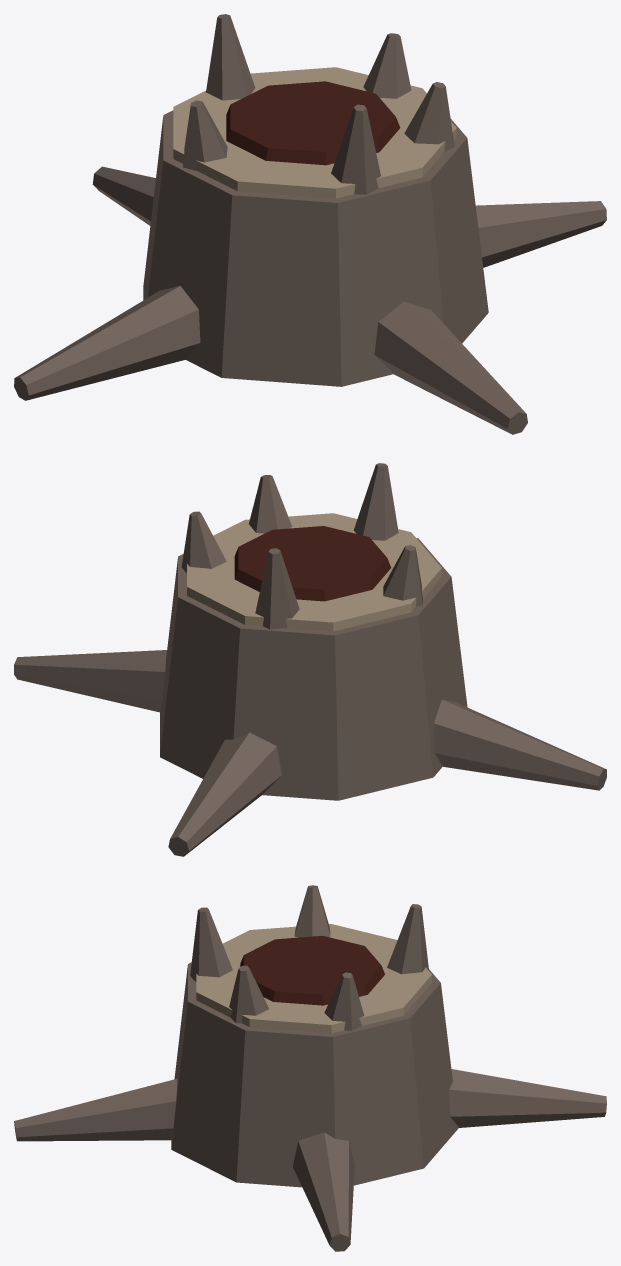
Rendered from harvest_tree_depleted_stump.glb.
The picture shows the model from 3 angles, top to bottom: view 1: azimuth 30°, elevation 25°; view 2: azimuth 150°, elevation 25°; view 3: azimuth 270°, elevation 25°; orthographic projection. The views are drawn at different scales.
Visible parts, largest first — view 1: Stump.001, Cut_Surface.001, Root_3.004, Hollow_Core, Root_4.001, Root_1.004, Weathered_Splinter_4, Weathered_Splinter_2, Root_2.004, Weathered_Splinter_5, Weathered_Splinter_1, Weathered_Splinter_3; view 2: Stump.001, Cut_Surface.001, Hollow_Core, Root_3.004, Root_2.004, Root_1.004, Weathered_Splinter_2, Weathered_Splinter_4, Weathered_Splinter_1, Weathered_Splinter_5, Weathered_Splinter_3; view 3: Stump.001, Cut_Surface.001, Hollow_Core, Root_4.001, Root_2.004, Root_1.004, Weathered_Splinter_4, Weathered_Splinter_2, Weathered_Splinter_1, Weathered_Splinter_5, Weathered_Splinter_3.
Boxes of the visible parts, left/top/right/bottom form: Stump.001: left=143, top=110, right=488, bottom=386; Cut_Surface.001: left=173, top=67, right=456, bottom=198; Root_3.004: left=14, top=286, right=200, bottom=400; Hollow_Core: left=226, top=81, right=400, bottom=165; Root_4.001: left=374, top=301, right=527, bottom=434; Root_1.004: left=475, top=201, right=606, bottom=267; Weathered_Splinter_4: left=331, top=104, right=380, bottom=194; Weathered_Splinter_2: left=206, top=14, right=255, bottom=100; Root_2.004: left=92, top=166, right=155, bottom=225; Weathered_Splinter_5: left=404, top=82, right=454, bottom=151; Weathered_Splinter_1: left=363, top=33, right=411, bottom=98; Weathered_Splinter_3: left=183, top=100, right=227, bottom=171; Stump.001: left=160, top=538, right=467, bottom=800; Cut_Surface.001: left=187, top=513, right=441, bottom=631; Hollow_Core: left=234, top=526, right=391, bottom=601; Root_3.004: left=434, top=699, right=606, bottom=790; Root_2.004: left=168, top=732, right=281, bottom=856; Root_1.004: left=14, top=650, right=166, bottom=712; Weathered_Splinter_2: left=255, top=548, right=299, bottom=629; Weathered_Splinter_4: left=353, top=463, right=398, bottom=540; Weathered_Splinter_1: left=181, top=511, right=226, bottom=573; Weathered_Splinter_5: left=249, top=475, right=292, bottom=533; Weathered_Splinter_3: left=383, top=545, right=422, bottom=606; Stump.001: left=171, top=962, right=458, bottom=1187; Cut_Surface.001: left=196, top=924, right=431, bottom=1033; Hollow_Core: left=240, top=935, right=384, bottom=1005; Root_4.001: left=14, top=1078, right=177, bottom=1141; Root_2.004: left=449, top=1069, right=606, bottom=1127; Root_1.004: left=292, top=1132, right=354, bottom=1251; Weathered_Splinter_4: left=190, top=907, right=232, bottom=981; Weathered_Splinter_2: left=387, top=904, right=428, bottom=974; Weathered_Splinter_1: left=324, top=972, right=364, bottom=1030; Weathered_Splinter_5: left=229, top=965, right=268, bottom=1023; Weathered_Splinter_3: left=294, top=885, right=330, bottom=937.
Bounding box in the file's own units: 1.92 × 0.7677 × 1.92.
